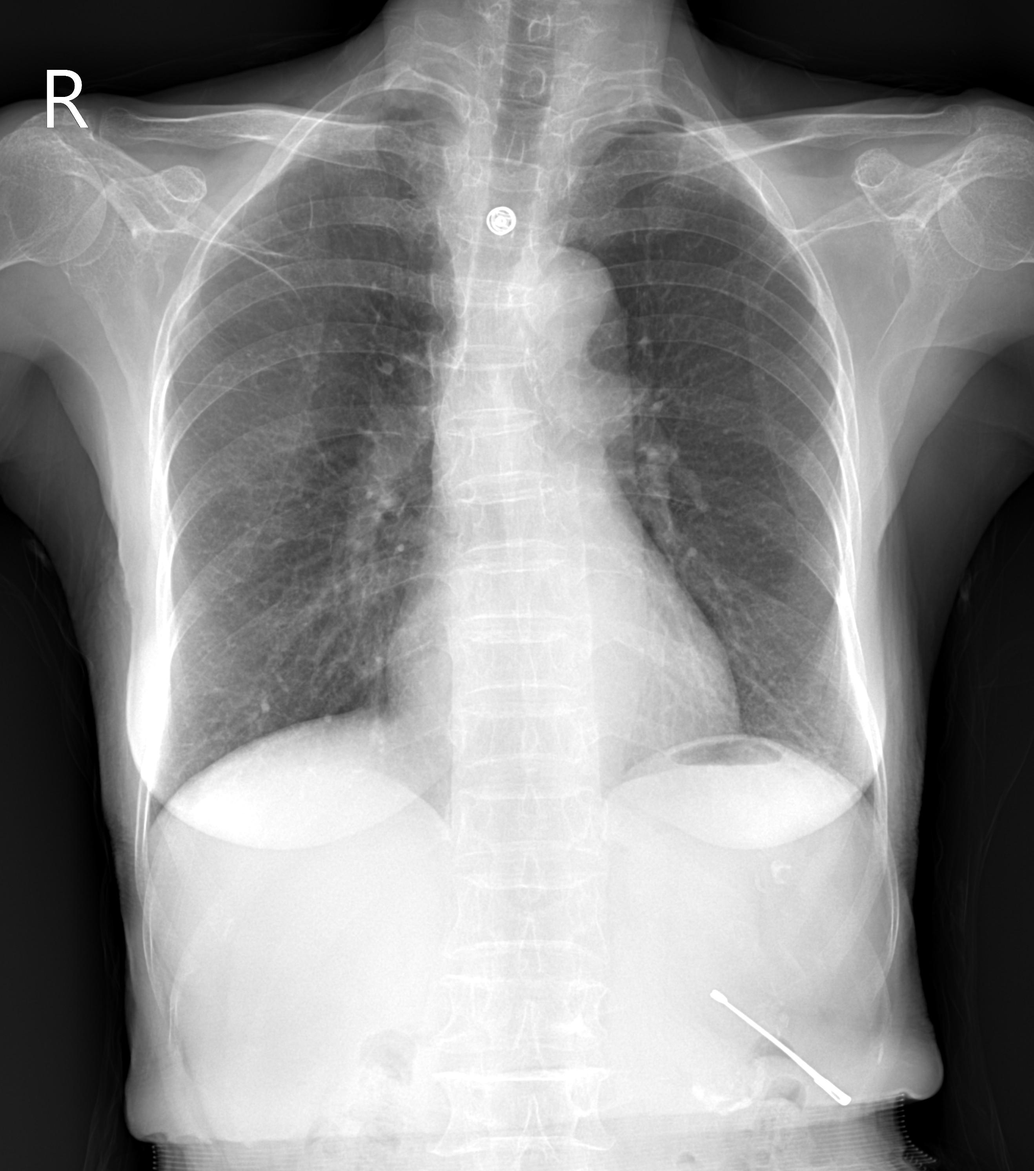Aortic enlargement: (510, 239, 632, 351)
Pleural thickening: (572, 116, 691, 144), (333, 91, 445, 119)
